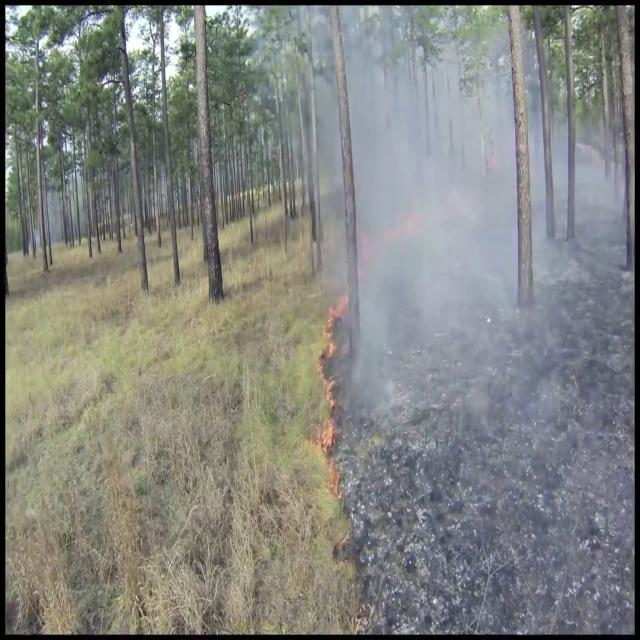Smoke: (322, 16, 628, 496)
